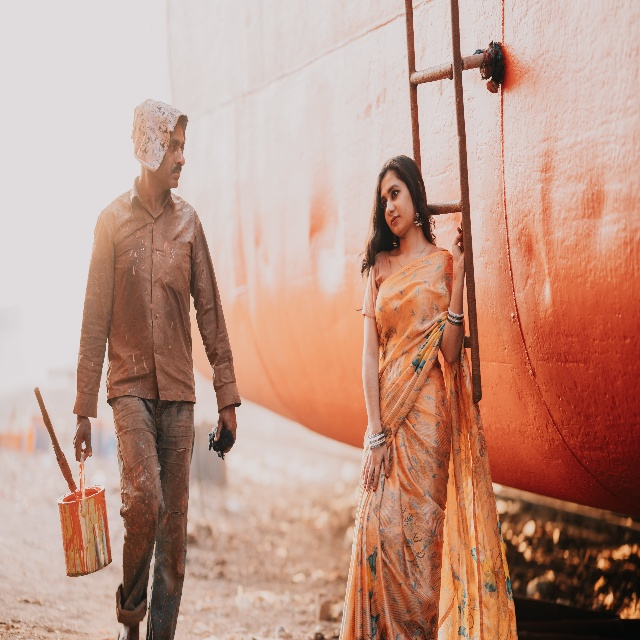Sin_guantes: (363, 441, 391, 492), (213, 405, 236, 453), (72, 415, 93, 462), (452, 219, 466, 268)
